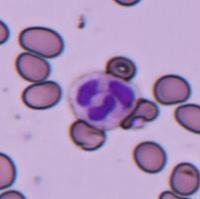N: (66, 72, 136, 129)
